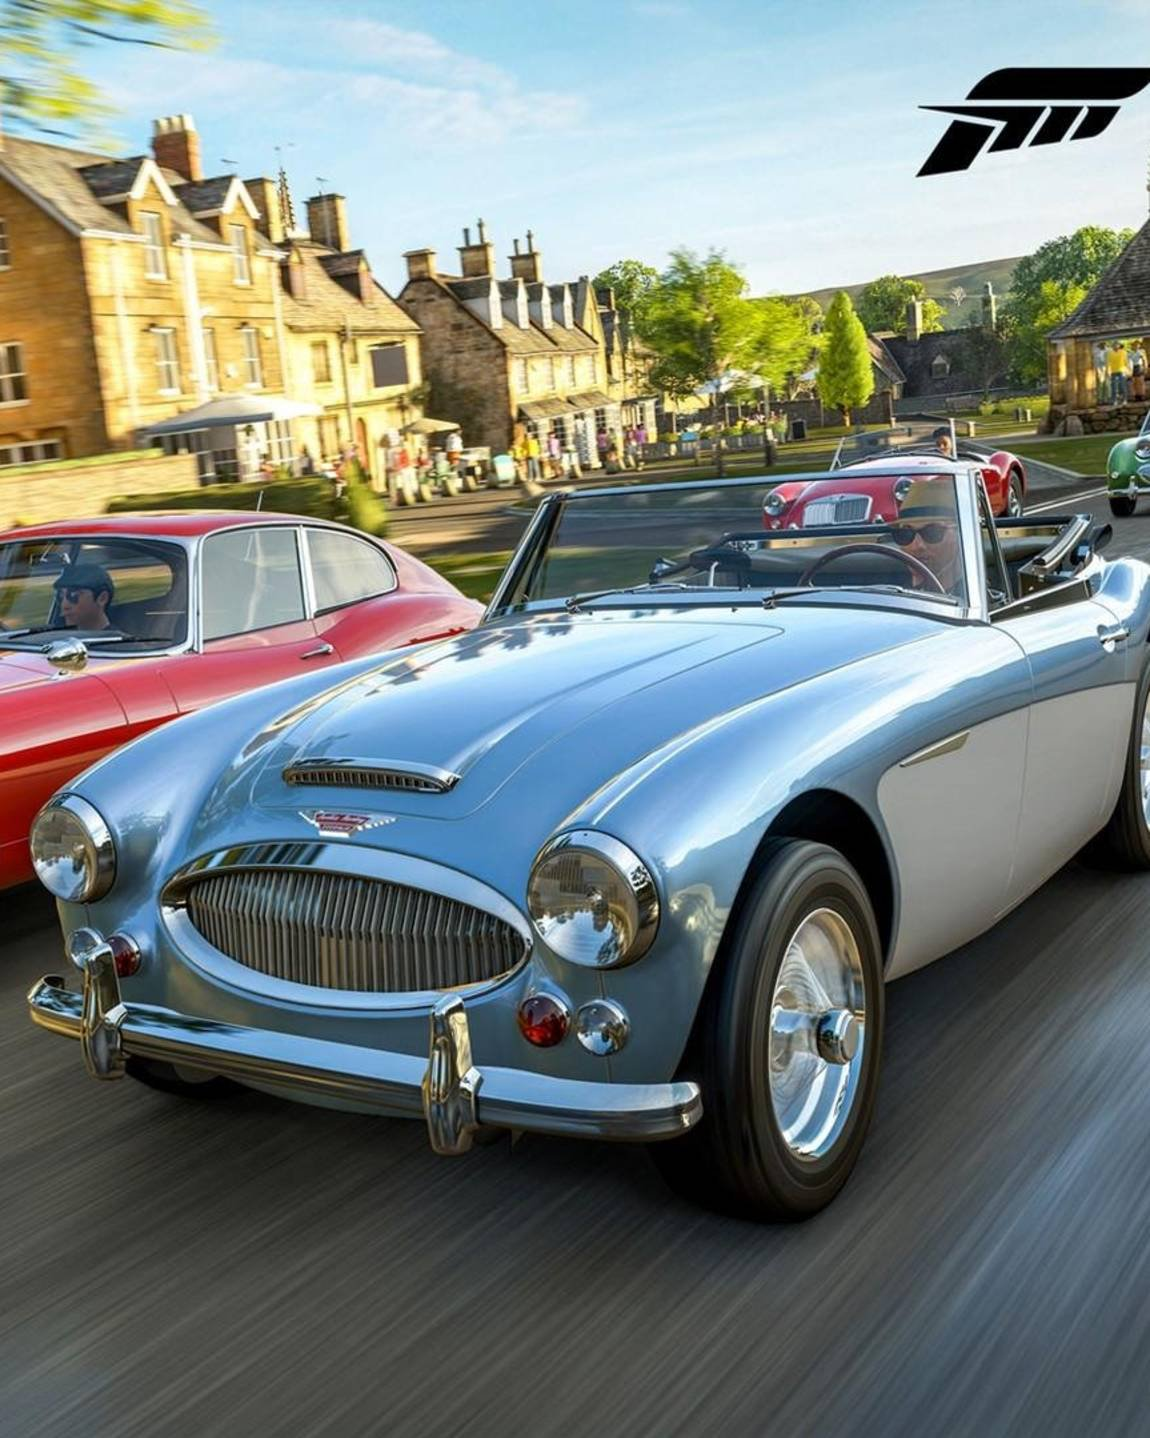car: (58, 504, 1149, 1198), (8, 459, 486, 907)
